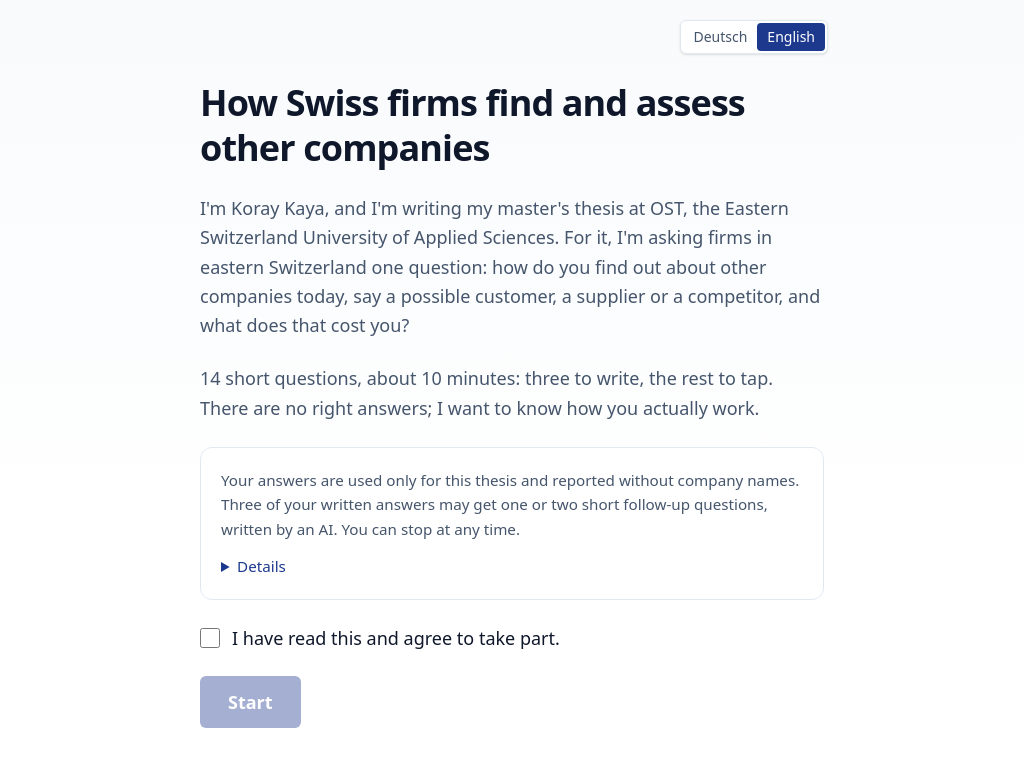
Test: Form › remembers which link a response was started from
What coordinates should you click on to do the following:
click the checkbox
I would click on:
 (210, 638)
Its box is [200,628,220,648].
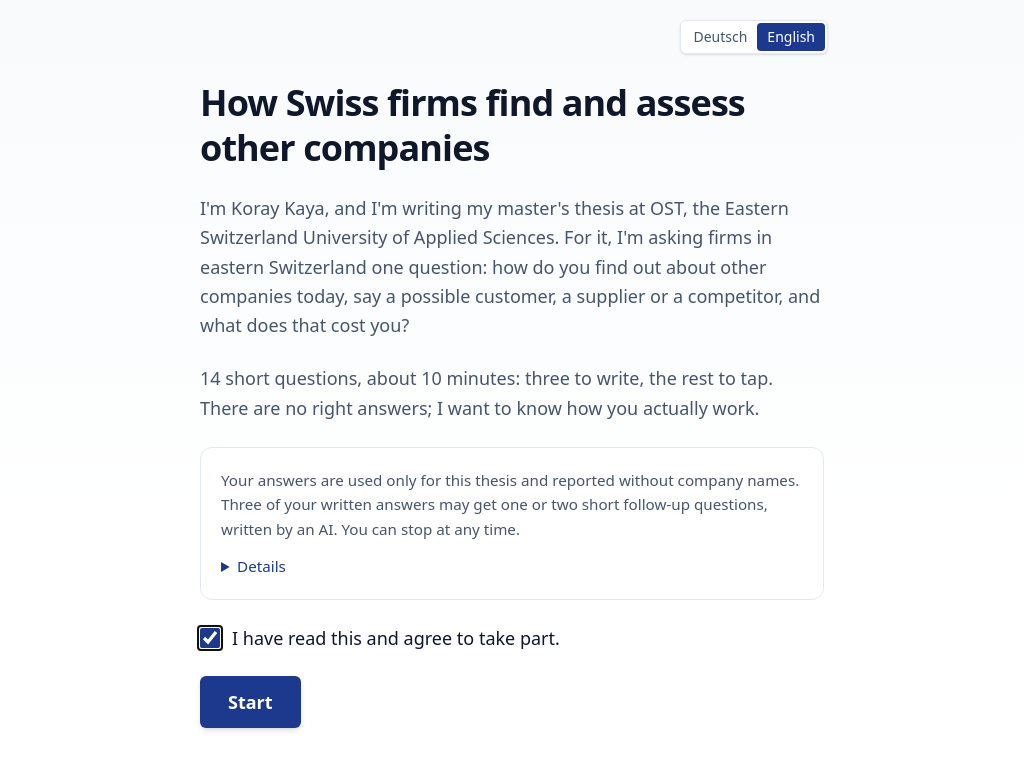
What coordinates should you click on to do the following:
click the button "Start"
I would click on:
 (250, 702)
Its box is [200,676,301,728].
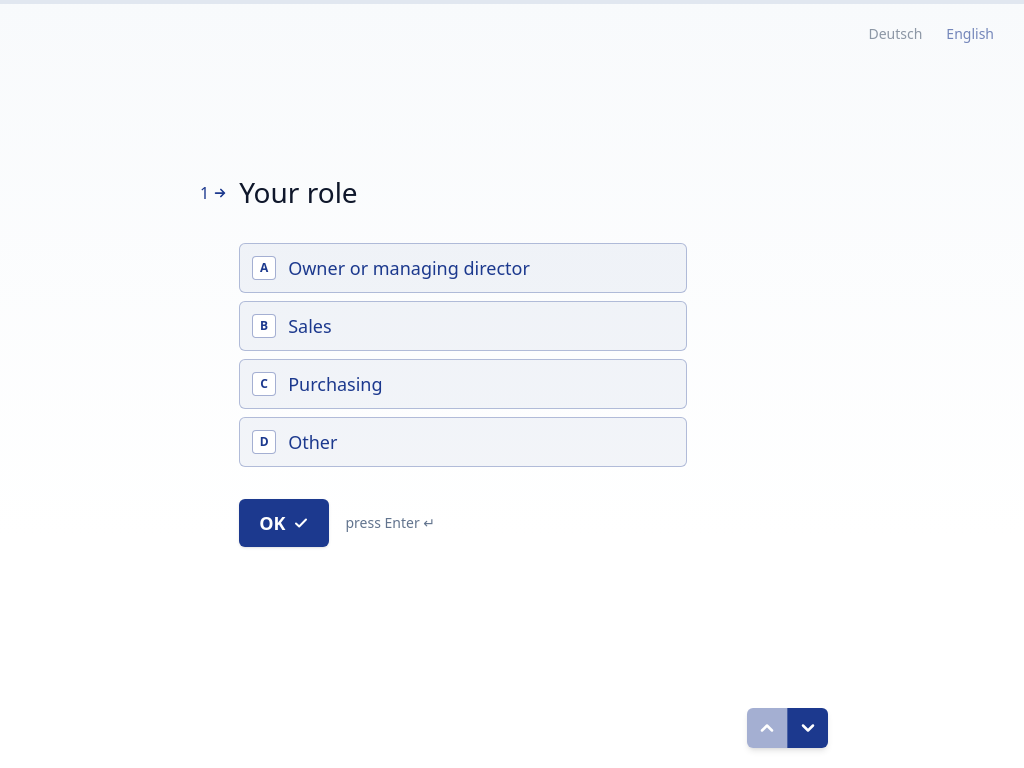
Check: the heading "Your role" is shown, box [239,173,358,211]
